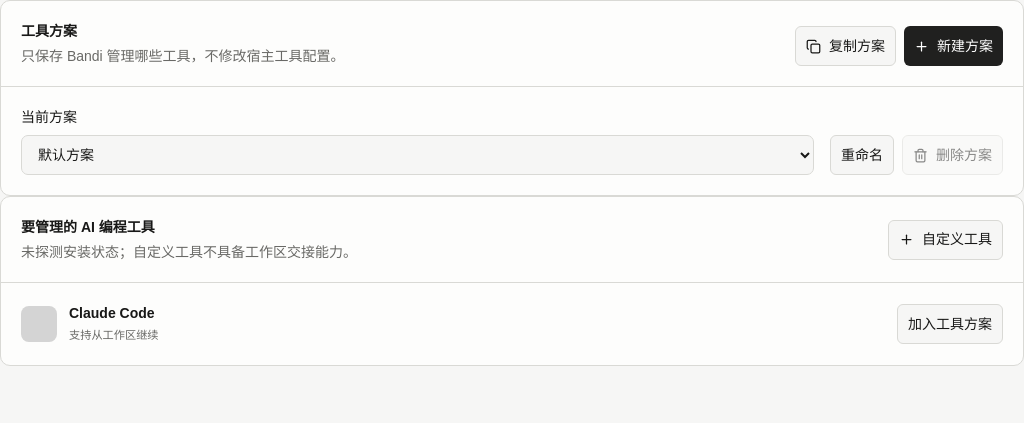
Test: Desktop 工具方案 › 写入失败时保留当前方案并显示错误
Click the button "加入工具方案".
click(950, 324)  # box x1=897 y1=304 x2=1003 y2=344
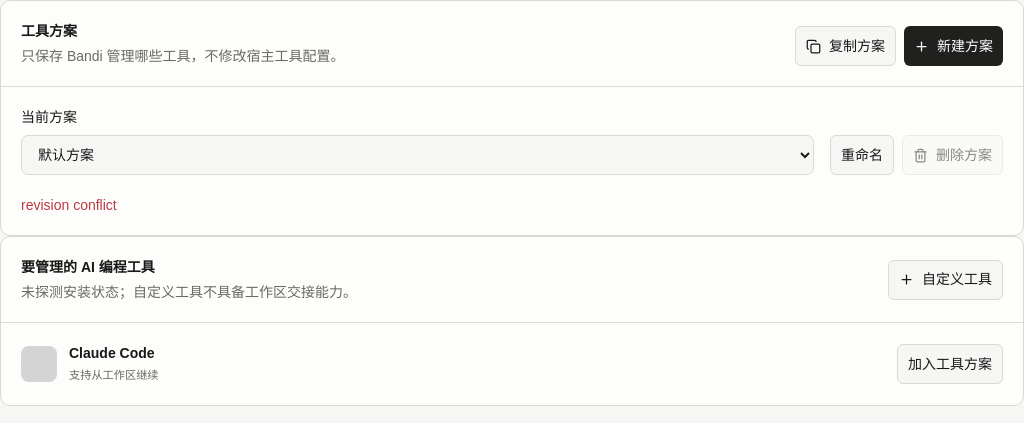
Expected: the dropdown labelled "当前方案" shows "默认方案", x1=21 y1=135 x2=814 y2=175
Expected: the message reads "revision conflict", x1=21 y1=197 x2=117 y2=213
